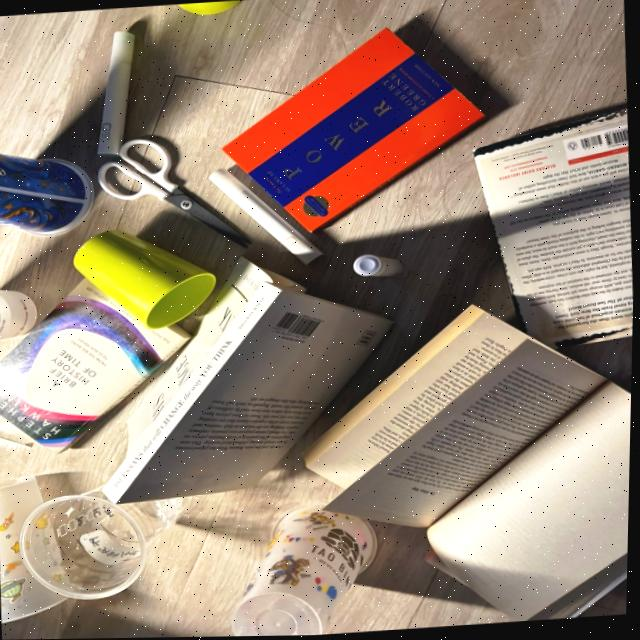Book: (105, 256, 393, 504), (375, 382, 633, 622), (300, 306, 610, 489), (221, 29, 486, 234), (473, 103, 635, 350), (0, 279, 190, 452), (524, 555, 630, 623)
HighLight Pen: (211, 170, 324, 265), (99, 32, 135, 158), (355, 255, 404, 278)
Plastic Cup: (234, 507, 379, 637), (22, 492, 185, 600), (0, 477, 70, 623), (0, 155, 95, 236), (0, 291, 39, 341)
Scissors: (100, 139, 250, 248)
WaterGlass: (76, 231, 218, 330), (179, 1, 242, 15)
